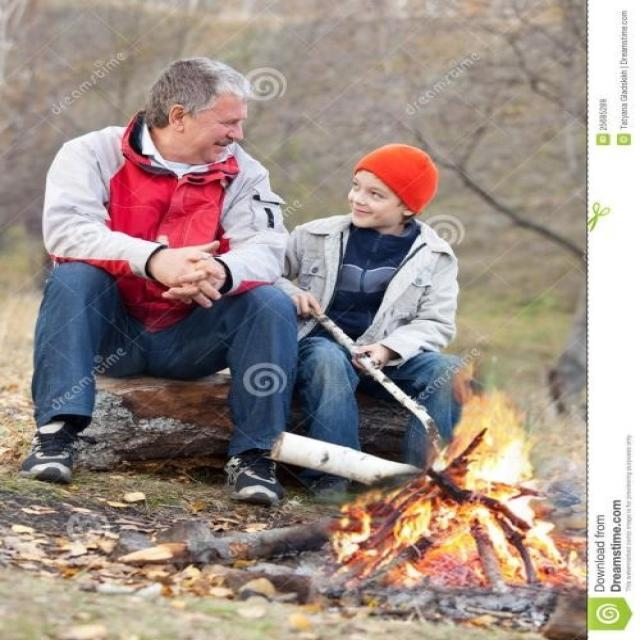Fire: (327, 364, 588, 590)
